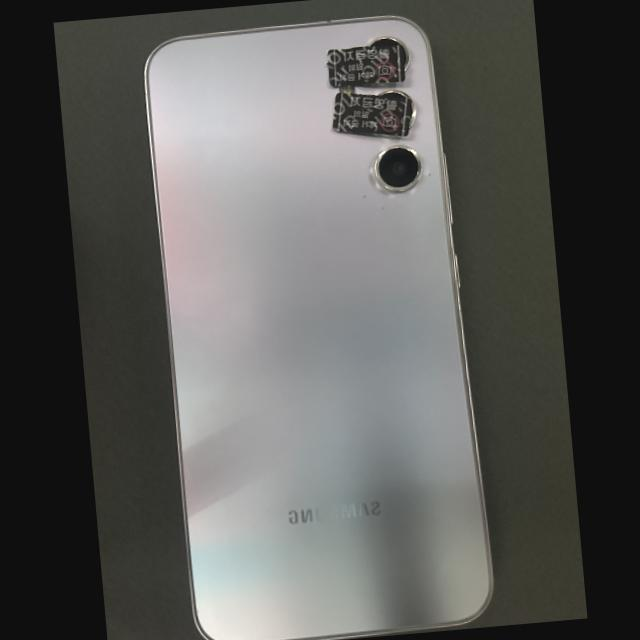lens: (374, 145, 420, 192), (377, 90, 415, 127), (366, 36, 408, 69)
phone: (143, 15, 494, 640)
sticker: (332, 92, 411, 136), (327, 44, 405, 87)
